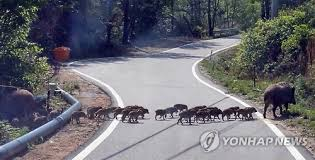boar: (261, 81, 299, 118)
